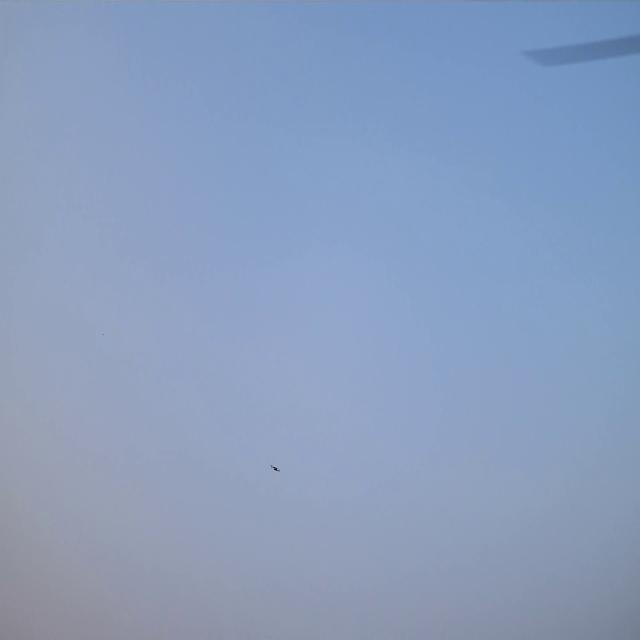UAV: (271, 466, 279, 471)
